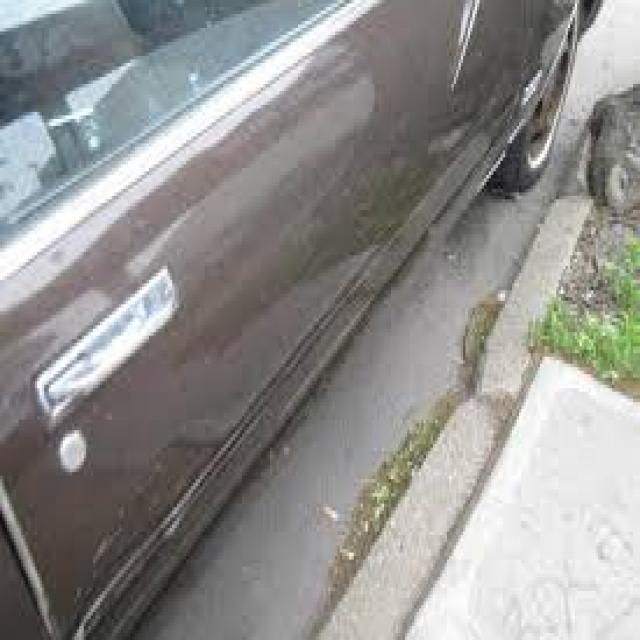minor: (444, 0, 486, 84)
